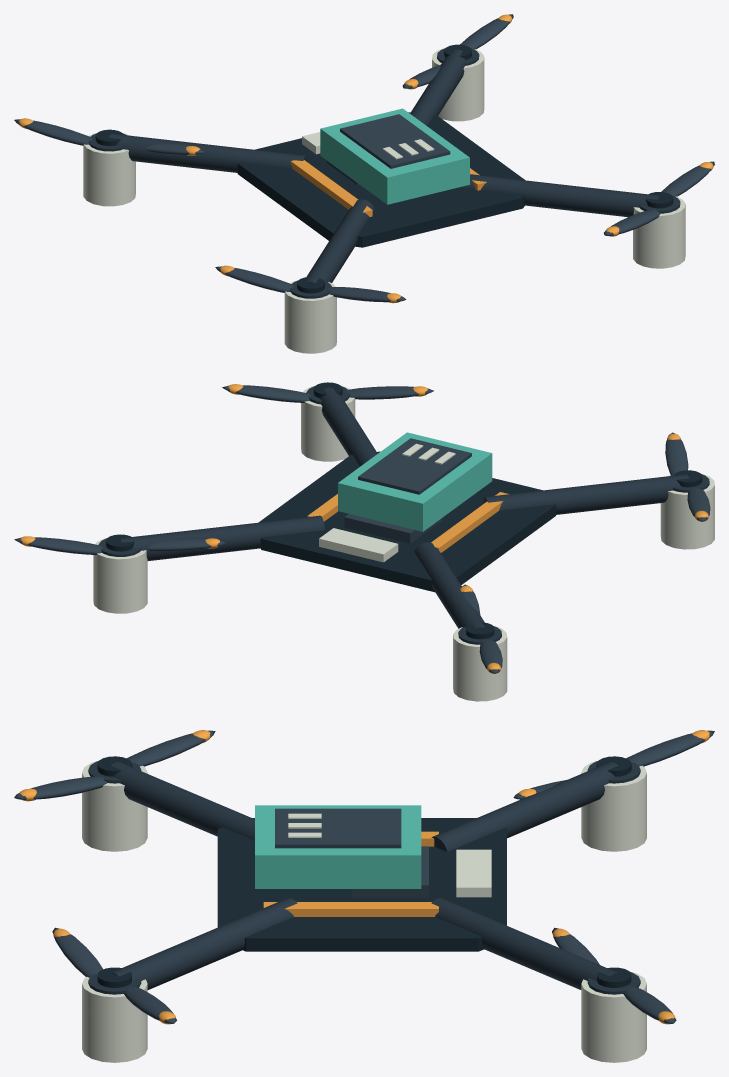
File: crazyflie-2-1-plus.glb
3 renders of one model, top to bottom at view 1: azimuth 30°, elevation 25°; view 2: azimuth 150°, elevation 25°; view 3: azimuth 270°, elevation 25°, orthographic. The views are drawn at different scales.
Parts seen in each view (by area): view 1: part-frame-1, part-battery-12, part-propeller-9, part-propeller-11, part-propeller-5, part-propeller-7, part-flight-controller-2; view 2: part-frame-1, part-battery-12, part-flight-controller-2, part-propeller-11, part-propeller-7, part-propeller-9, part-radio-3, part-propeller-5; view 3: part-frame-1, part-battery-12, part-flight-controller-2, part-propeller-9, part-propeller-11, part-propeller-7, part-propeller-5, part-radio-3.
Part boxes in pixels (bbox=[...]): part-frame-1: bbox=[83, 48, 685, 353]; part-battery-12: bbox=[320, 108, 469, 204]; part-propeller-9: bbox=[215, 265, 406, 303]; part-propeller-11: bbox=[604, 161, 714, 236]; part-propeller-5: bbox=[14, 118, 204, 155]; part-propeller-7: bbox=[402, 14, 513, 89]; part-flight-controller-2: bbox=[290, 160, 486, 216]; part-frame-1: bbox=[93, 385, 714, 701]; part-battery-12: bbox=[338, 432, 492, 531]; part-flight-controller-2: bbox=[307, 492, 509, 552]; part-propeller-11: bbox=[222, 382, 433, 402]; part-propeller-7: bbox=[14, 534, 226, 554]; part-propeller-9: bbox=[665, 432, 710, 521]; part-radio-3: bbox=[319, 528, 398, 562]; part-propeller-5: bbox=[460, 584, 502, 673]; part-frame-1: bbox=[82, 760, 646, 1062]; part-battery-12: bbox=[255, 805, 421, 888]; part-flight-controller-2: bbox=[263, 831, 438, 916]; part-propeller-9: bbox=[14, 730, 215, 801]; part-propeller-11: bbox=[52, 927, 176, 1024]; part-propeller-7: bbox=[552, 927, 676, 1024]; part-propeller-5: bbox=[513, 730, 714, 799]; part-radio-3: bbox=[456, 849, 491, 897].
Bounding box in the file's own units: 3.16 × 0.5965 × 3.2.
